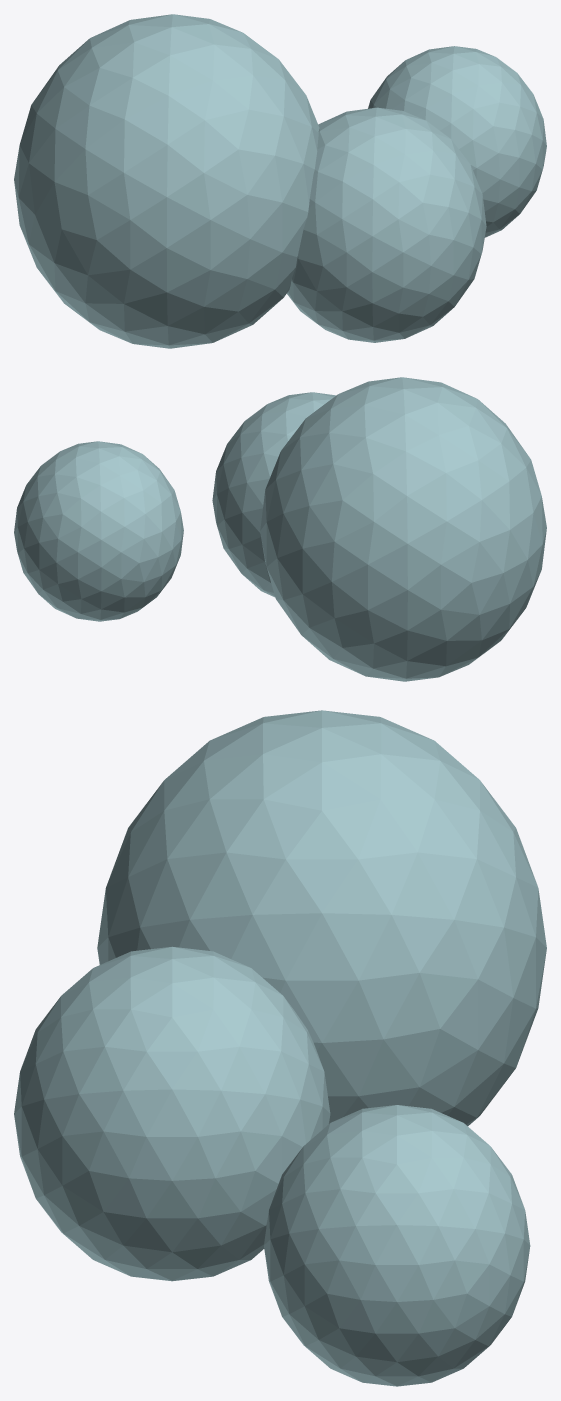
The model's file is dew_cluster.glb.
The picture shows the model from 3 angles, top to bottom: view 1: azimuth 30°, elevation 25°; view 2: azimuth 150°, elevation 25°; view 3: azimuth 270°, elevation 25°; orthographic projection. The views are drawn at different scales.
Visible parts, largest first — view 1: Dew_0, Dew_1, Dew_2; view 2: Dew_0, Dew_2, Dew_1; view 3: Dew_0, Dew_1, Dew_2.
Boxes of the visible parts, x1,y1,x2,y2 form: Dew_0: [14, 14, 319, 348]; Dew_1: [287, 107, 486, 342]; Dew_2: [368, 46, 546, 237]; Dew_0: [260, 377, 546, 681]; Dew_2: [14, 441, 183, 621]; Dew_1: [212, 392, 335, 597]; Dew_0: [97, 710, 546, 1125]; Dew_1: [14, 946, 330, 1281]; Dew_2: [264, 1105, 530, 1386].
Bounding box in the file's own units: 1.04 × 0.5832 × 0.64.
